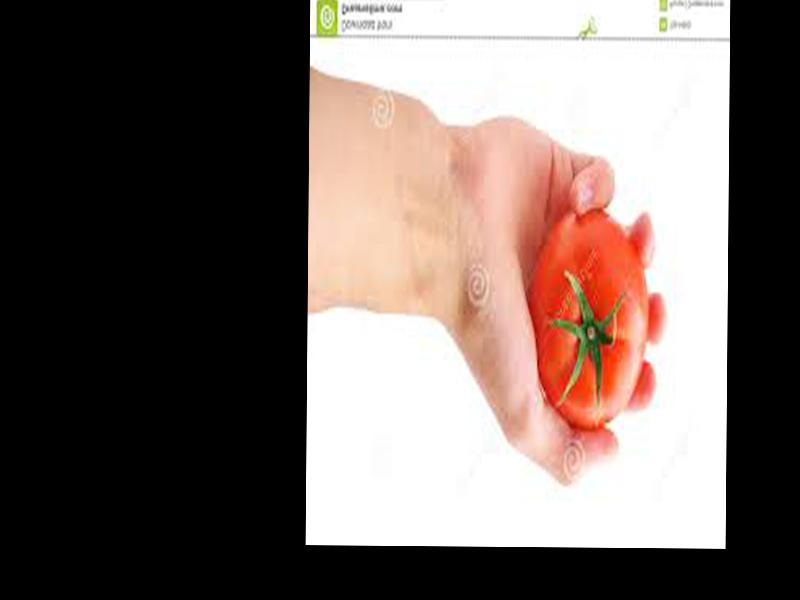Tomato: (531, 207, 649, 425)
